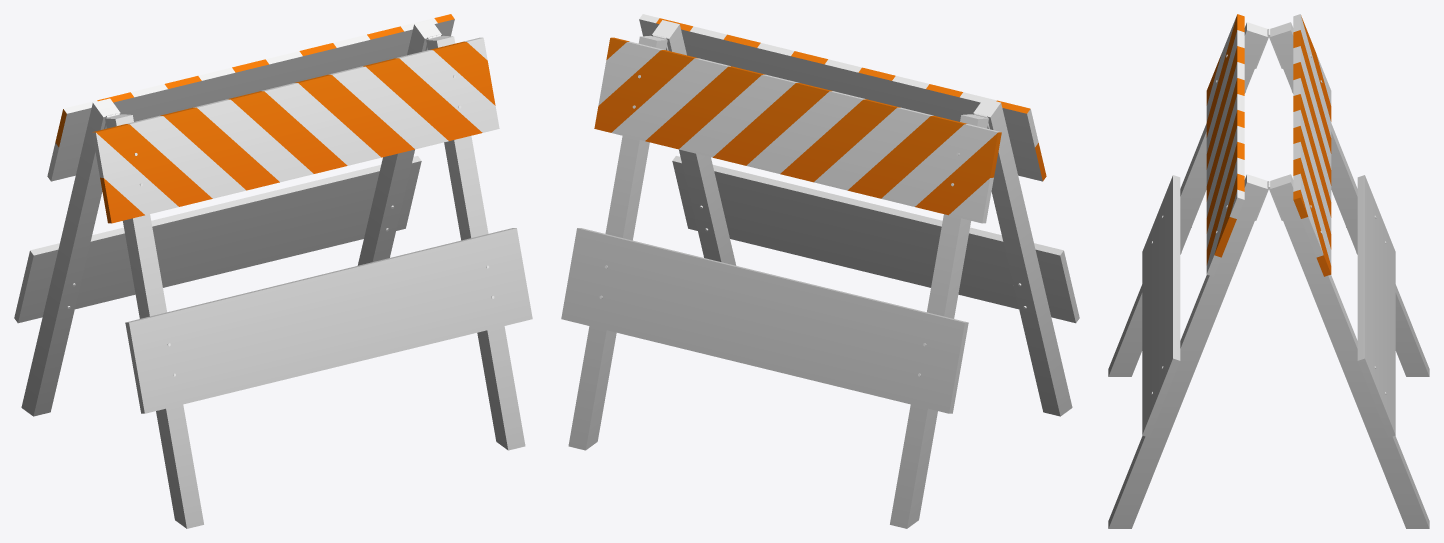
Rendered from type_i_barricade_01_medium.glb.
3 views of the same model, side by side, from view 1: azimuth 30°, elevation 25°; view 2: azimuth 150°, elevation 25°; view 3: azimuth 270°, elevation 25° (orthographic). The views are drawn at different scales.
Parts seen in each view (by area): view 1: type_i_barricade_01_medium; view 2: type_i_barricade_01_medium; view 3: type_i_barricade_01_medium.
Boxes of the visible parts, x1=… form: type_i_barricade_01_medium: x1=14, y1=14, x2=532, y2=528; type_i_barricade_01_medium: x1=561, y1=14, x2=1079, y2=528; type_i_barricade_01_medium: x1=1108, y1=14, x2=1429, y2=528.
Bounding box in the file's own units: 1.12 × 0.9894 × 0.8304.
1 material, 1 textured.
